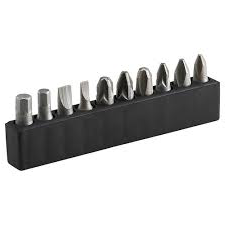Screwdriver: (6, 48, 223, 155)
